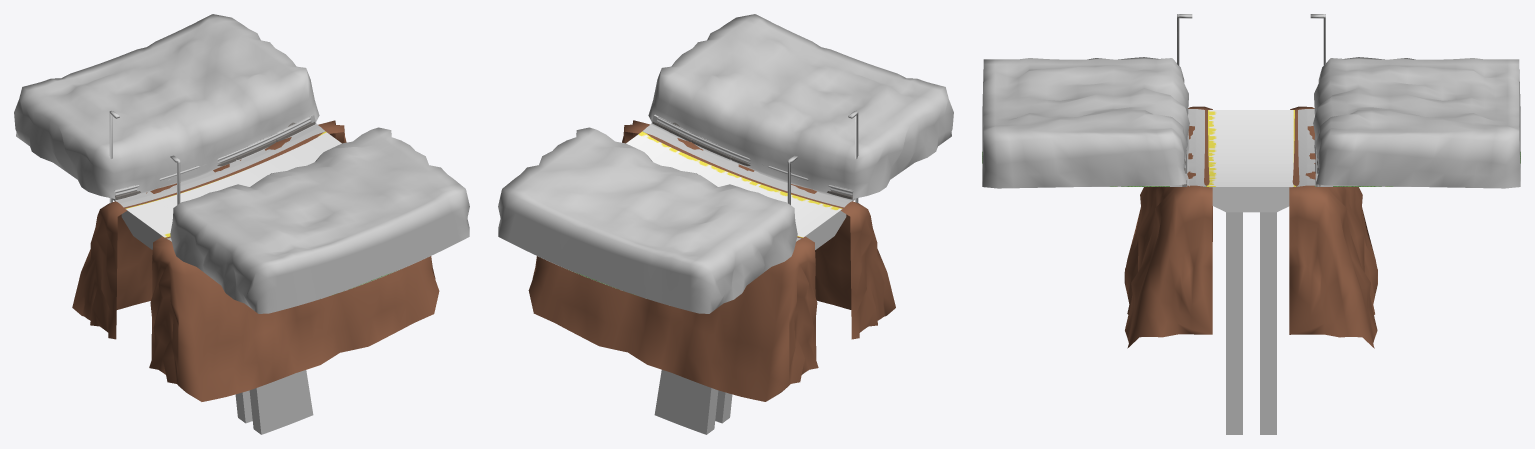
The model's file is RoadStraightUp_LOD0.fbx.
3 views of the same model, side by side, from view 1: azimuth 30°, elevation 25°; view 2: azimuth 150°, elevation 25°; view 3: azimuth 270°, elevation 25° (orthographic). The views are drawn at different scales.
Parts seen in each view (by area): view 1: MountainRight, MountainLeft, CliffRight, CliffLeft, Road, Road Mask, PianoLeft, RailGuardLeft, ConcreteWallLeft; view 2: MountainLeft, MountainRight, CliffLeft, CliffRight, Road, Road Mask, PianoRight, RailGuardRight, ConcreteWallRight; view 3: MountainRight, MountainLeft, CliffLeft, CliffRight, Road, Road Mask, PianoLeft, PianoRight.
Boxes of the visible parts, x1,y1,x2,y2 form: MountainRight: [170, 127, 469, 313]; MountainLeft: [14, 14, 319, 201]; CliffRight: [149, 236, 439, 401]; CliffLeft: [72, 120, 346, 339]; Road: [121, 210, 313, 434]; Road Mask: [125, 131, 341, 237]; PianoLeft: [116, 124, 325, 207]; RailGuardLeft: [115, 115, 313, 196]; ConcreteWallLeft: [115, 122, 315, 199]; MountainLeft: [498, 127, 797, 313]; MountainRight: [648, 14, 953, 201]; CliffLeft: [528, 236, 818, 401]; CliffRight: [622, 120, 895, 339]; Road: [654, 210, 846, 434]; Road Mask: [626, 131, 842, 237]; PianoRight: [642, 124, 851, 207]; RailGuardRight: [654, 115, 852, 196]; ConcreteWallRight: [652, 122, 852, 199]; MountainRight: [982, 57, 1189, 188]; MountainLeft: [1313, 57, 1520, 188]; CliffLeft: [1289, 106, 1377, 348]; CliffRight: [1124, 106, 1212, 348]; Road: [1209, 187, 1292, 434]; Road Mask: [1206, 110, 1296, 186]; PianoLeft: [1297, 109, 1356, 186]; PianoRight: [1146, 109, 1206, 186].
Size of what is drawn, in the model's own units: 663 by 742 by 1052.
